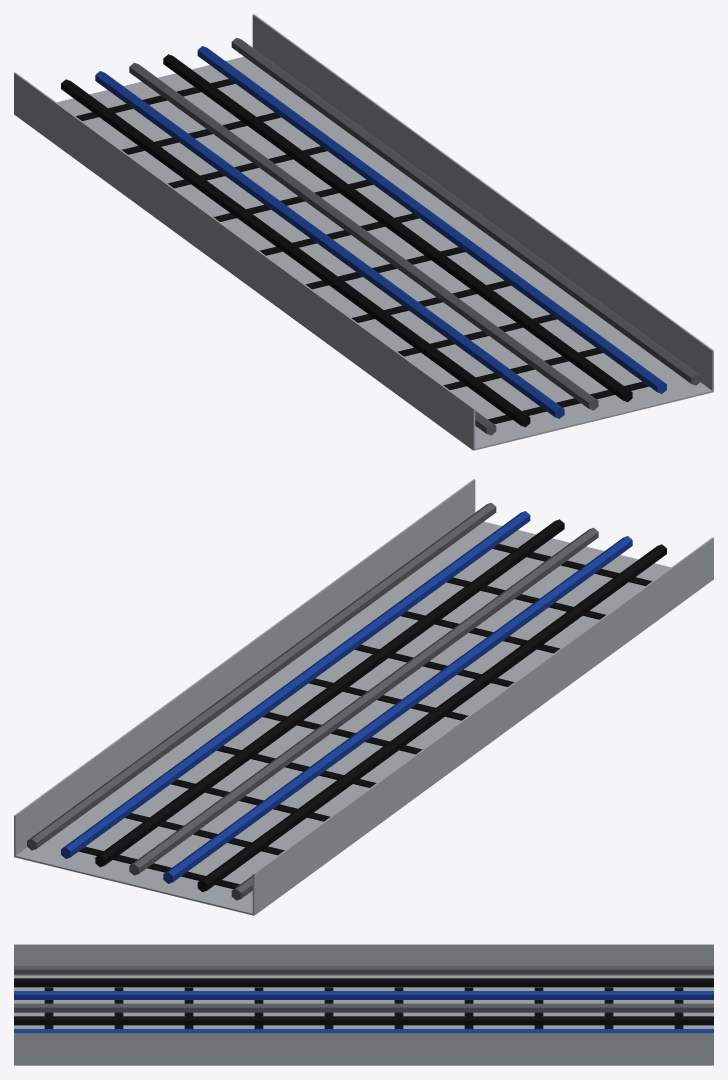
The model's file is services.tray.run_300.glb.
3 views of the same model, one above another, from view 1: azimuth 30°, elevation 25°; view 2: azimuth 150°, elevation 25°; view 3: azimuth 270°, elevation 25° (orthographic). The views are drawn at different scales.
Parts seen in each view (by area): view 1: main__steel_galvanised, main__plastic_black, main__plastic_grey, main__plastic_blue; view 2: main__steel_galvanised, main__plastic_black, main__plastic_grey, main__plastic_blue; view 3: main__steel_galvanised, main__plastic_black, main__plastic_grey, main__plastic_blue.
Part boxes in pixels (x1,y1,x2,y2): main__steel_galvanised: [14, 14, 713, 450]; main__plastic_black: [61, 54, 648, 427]; main__plastic_grey: [129, 37, 700, 435]; main__plastic_blue: [95, 46, 666, 418]; main__steel_galvanised: [14, 479, 713, 915]; main__plastic_black: [79, 519, 666, 892]; main__plastic_grey: [27, 502, 598, 900]; main__plastic_blue: [61, 511, 632, 883]; main__steel_galvanised: [14, 944, 713, 1065]; main__plastic_black: [14, 978, 713, 1028]; main__plastic_grey: [14, 965, 713, 1012]; main__plastic_blue: [14, 991, 713, 1033].
Bounding box in the file's own units: 0.302 × 0.05 × 1.
